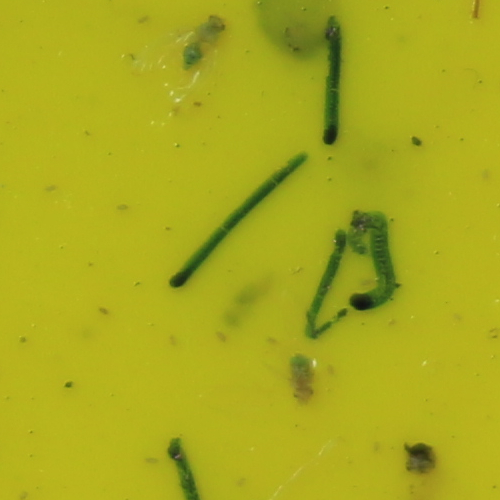Glycaspis: (289, 351, 319, 414), (197, 9, 228, 42)
